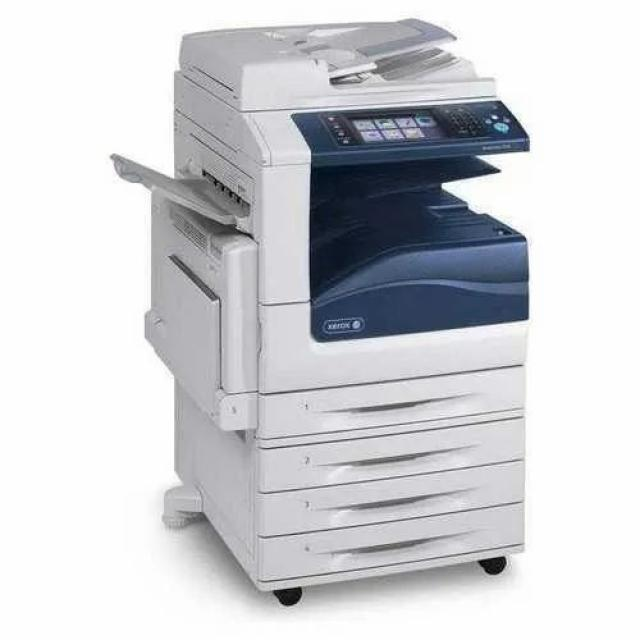printer: (109, 16, 531, 606)
